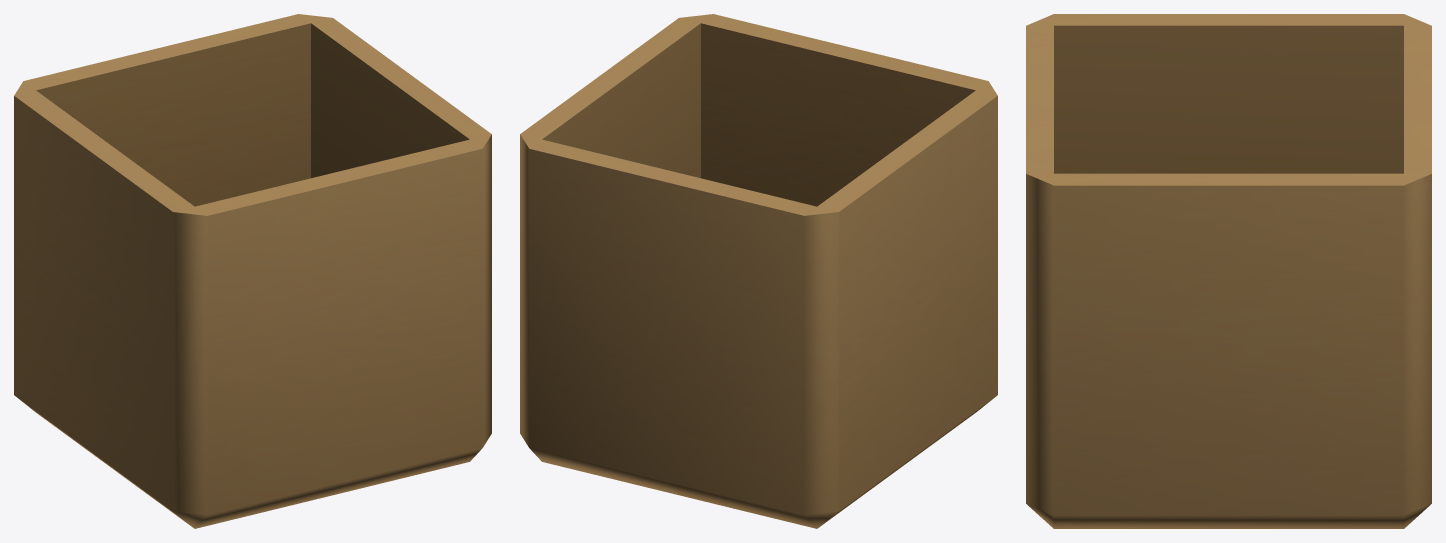
The model's file is box_cardboard_square_open.fbx.
3 views of the same model, side by side, from view 1: azimuth 30°, elevation 25°; view 2: azimuth 150°, elevation 25°; view 3: azimuth 270°, elevation 25° (orthographic). The views are drawn at different scales.
Parts seen in each view (by area): view 1: box_cardboard_square_open; view 2: box_cardboard_square_open; view 3: box_cardboard_square_open.
Part boxes in pixels (bbox=[...]): box_cardboard_square_open: bbox=[14, 14, 491, 528]; box_cardboard_square_open: bbox=[520, 14, 997, 528]; box_cardboard_square_open: bbox=[1026, 14, 1431, 528].
Bounding box in the file's own units: 53.69 × 51.84 × 53.69.
